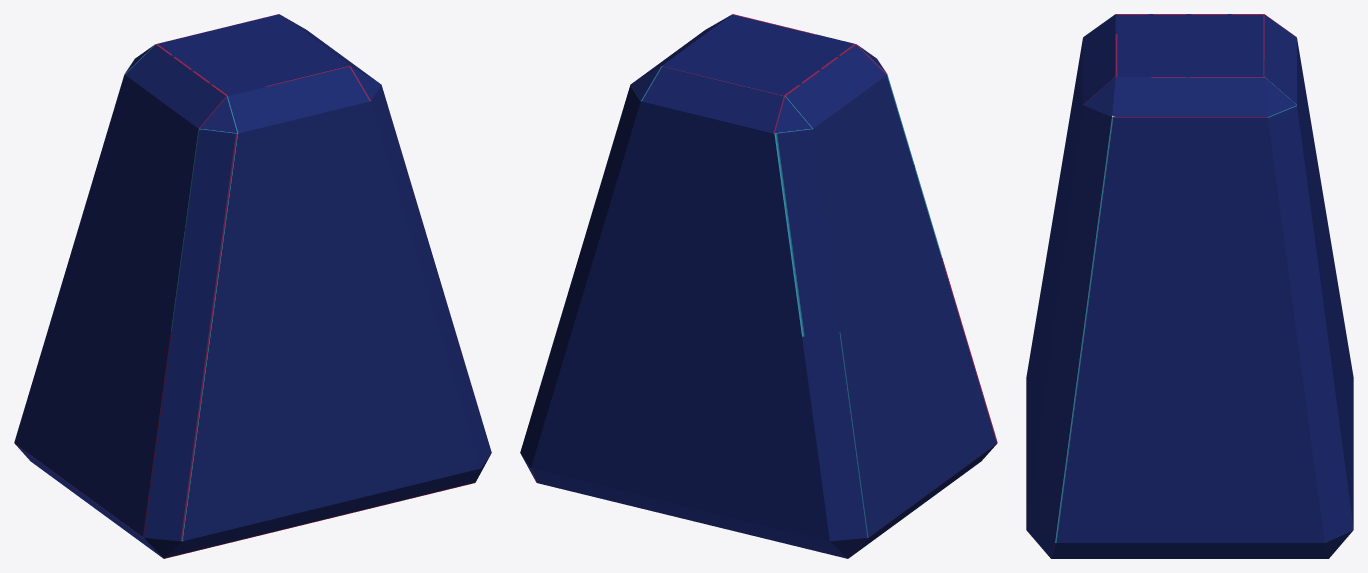
The model's file is playerWaist.obj.
3 renders of one model, left to right at view 1: azimuth 30°, elevation 25°; view 2: azimuth 150°, elevation 25°; view 3: azimuth 270°, elevation 25°, orthographic. The views are drawn at different scales.
Parts seen in each view (by area): view 1: Waist_; view 2: Waist_; view 3: Waist_.
Boxes of the visible parts, x1=… form: Waist_: x1=14, y1=14, x2=491, y2=558; Waist_: x1=520, y1=14, x2=997, y2=558; Waist_: x1=1026, y1=14, x2=1353, y2=558.
Bounding box in the file's own units: 0.9539 × 1.09 × 0.7456.
Materials: 1 (1 with a texture image).
